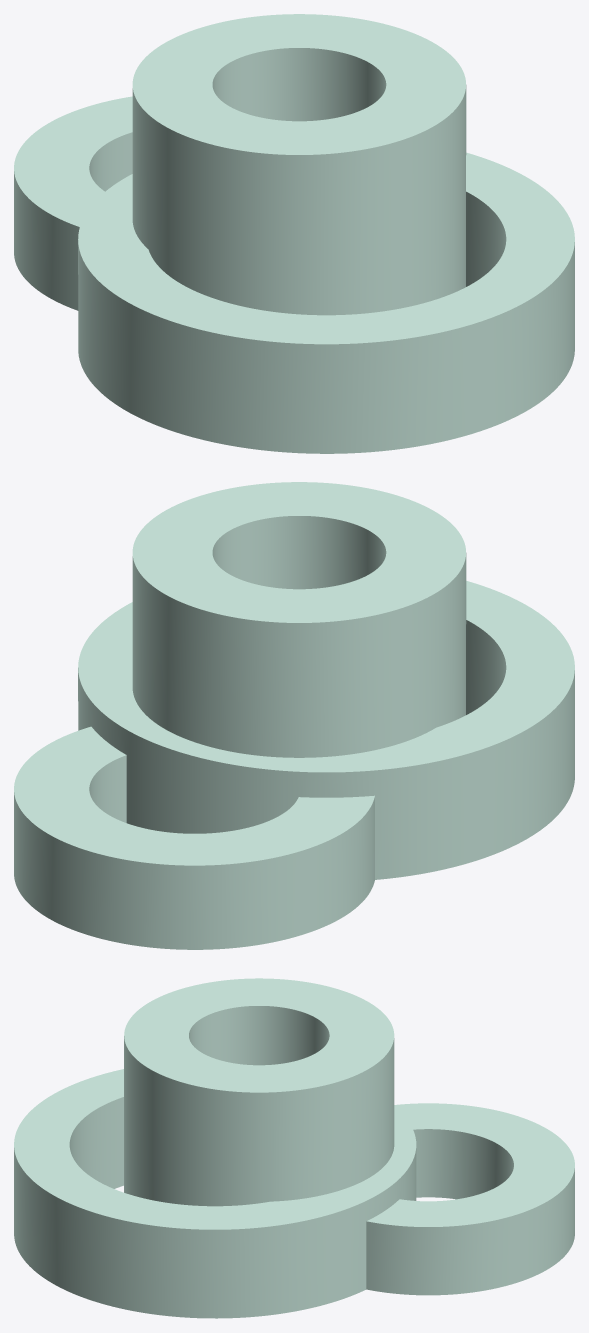
3 views of the same model, one above another, from view 1: azimuth 30°, elevation 25°; view 2: azimuth 150°, elevation 25°; view 3: azimuth 270°, elevation 25° (orthographic). The views are drawn at different scales.
Parts seen in each view (by area): view 1: Renderer Node; view 2: Renderer Node; view 3: Renderer Node.
Part boxes in pixels (x1,y1,x2,y2): Renderer Node: (14,14,574,453); Renderer Node: (14,482,574,949); Renderer Node: (14,978,574,1318).
Bounding box in the file's own units: 0.8348 × 0.4531 × 1.16.
